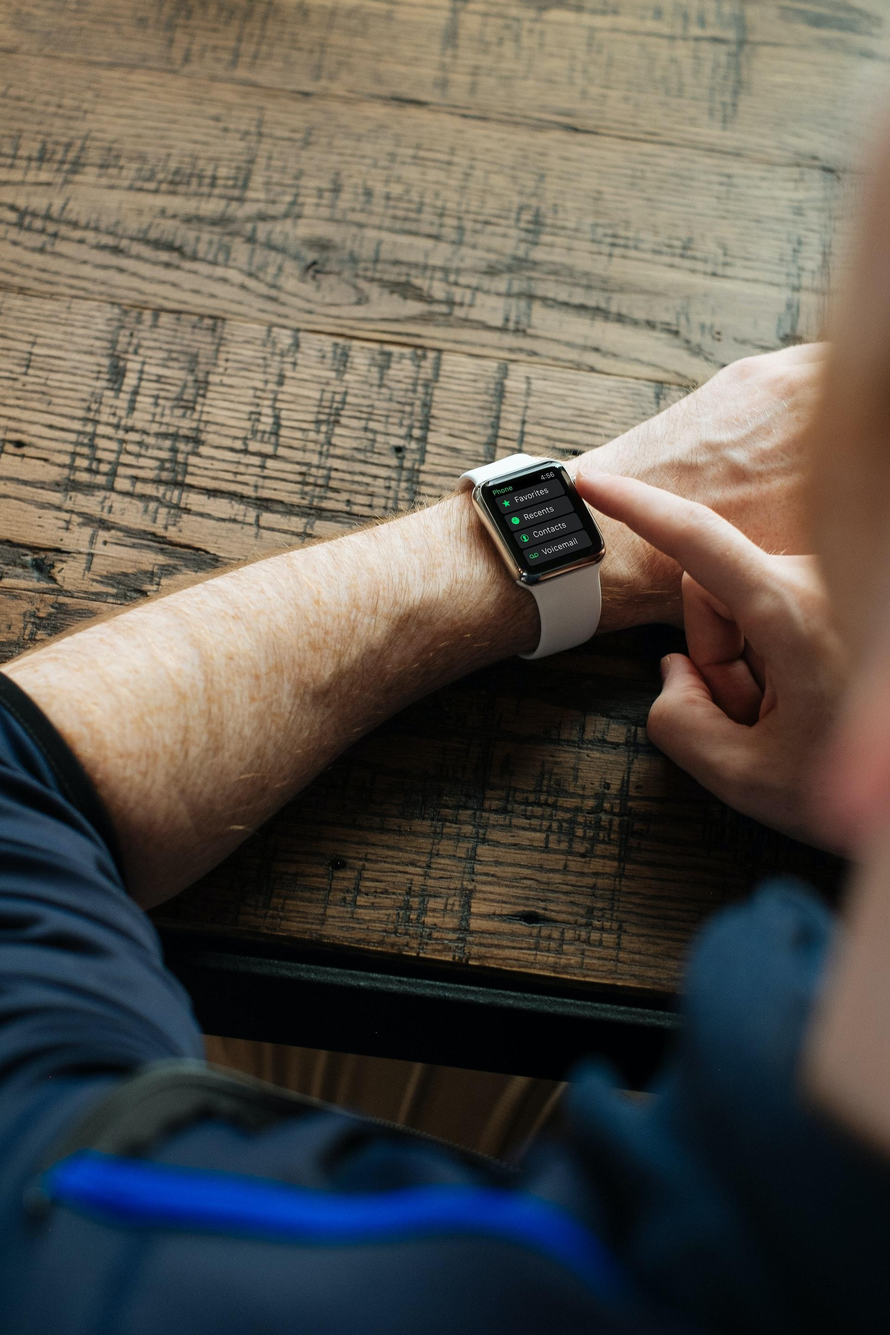watch: (450, 440, 628, 663)
